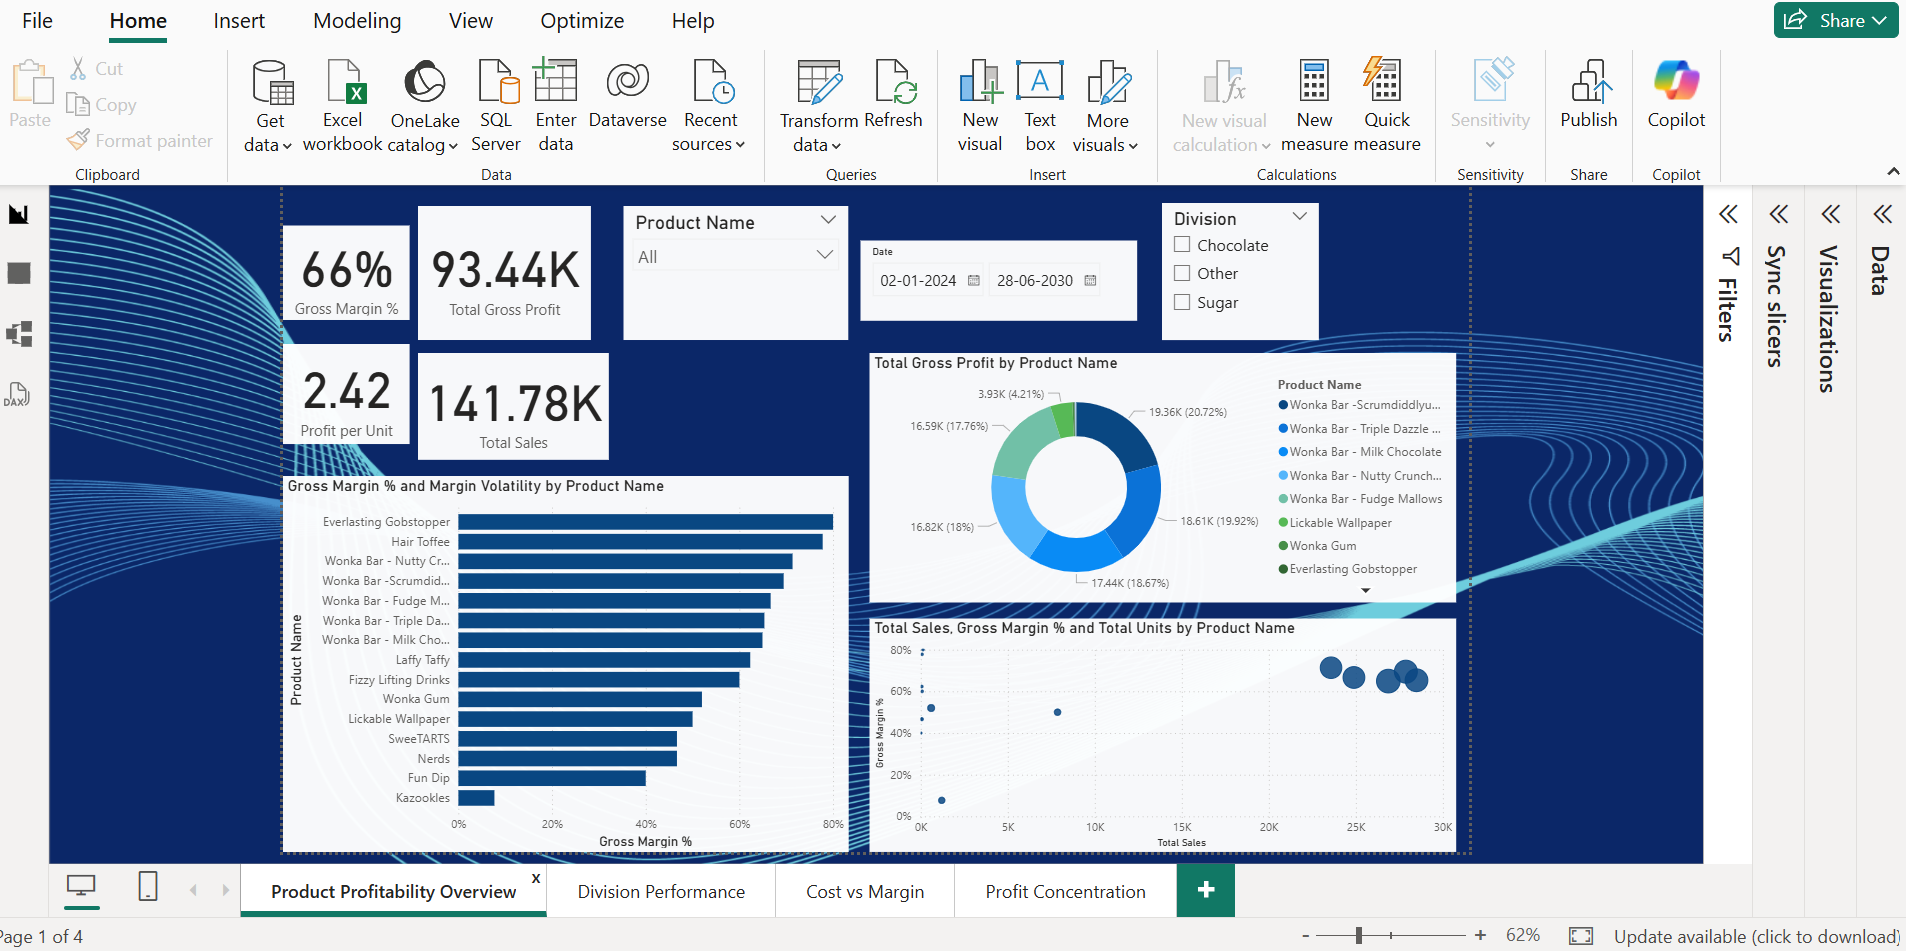

The dashboard page shown, as its layout file describes it:
{"tool":"powerbi","page":{"name":"Product Profitability Overview","canvas":[1280,720],"ordinal":0},"visuals":[{"type":"card","fields":{"Values":["_Measures.Total Sales"]},"box":[146.4,181,206.1,115.5],"z":0},{"type":"card","fields":{"Values":["_Measures.Total Gross Profit"]},"box":[146.4,23.1,186.8,144.4],"z":1000},{"type":"card","fields":{"Values":["_Measures.Gross Margin %"]},"box":[0,44.3,136.7,102.1],"z":2000},{"type":"card","fields":{"Values":["_Measures.Profit per Unit"]},"box":[0,171.4,136.7,107.8],"z":3000},{"type":"clusteredBarChart","fields":{"Category":["Dim_Product.Product Name"],"Y":["_Measures.Gross Margin %"]},"box":[0,313.9,610.5,406.3],"z":4000},{"type":"donutChart","fields":{"Category":["Dim_Product.Product Name"],"Y":["_Measures.Total Gross Profit"]},"box":[633.6,181,633.6,269.6],"z":5000},{"type":"scatterChart","fields":{"Category":["Dim_Product.Product Name"],"X":["_Measures.Total Sales"],"Y":["_Measures.Gross Margin %"],"Size":["_Measures.Total Units"]},"box":[633.6,468,633.6,252.3],"z":6000},{"type":"slicer","fields":{"Values":["Dim_Product.Division"]},"box":[949.4,19.3,169.5,148.3],"z":7000},{"type":"slicer","fields":{"Values":["Dim_Date.Date"]},"box":[624,59.7,298.5,86.7],"z":8000},{"type":"slicer","fields":{"Values":["Dim_Product.Product Name"]},"box":[367.8,23.1,242.7,144.4],"z":9000}]}

Visuals, with their boxes on the page's 1280x720 design canvas (x1, y1, x2, y2). These are canvas units, not pixel positions in the 1906x951 screenshot, which may show the page scaled, cropped or inside an application window:
card - _Measures.Total Sales: BBox(146, 181, 352, 296)
card - _Measures.Total Gross Profit: BBox(146, 23, 333, 168)
card - _Measures.Gross Margin %: BBox(0, 44, 137, 146)
card - _Measures.Profit per Unit: BBox(0, 171, 137, 279)
clusteredBarChart - Dim_Product.Product Name x _Measures.Gross Margin %: BBox(0, 314, 610, 720)
donutChart - Dim_Product.Product Name x _Measures.Total Gross Profit: BBox(634, 181, 1267, 451)
scatterChart - Dim_Product.Product Name x _Measures.Total Sales: BBox(634, 468, 1267, 720)
slicer - Dim_Product.Division: BBox(949, 19, 1119, 168)
slicer - Dim_Date.Date: BBox(624, 60, 922, 146)
slicer - Dim_Product.Product Name: BBox(368, 23, 610, 168)
